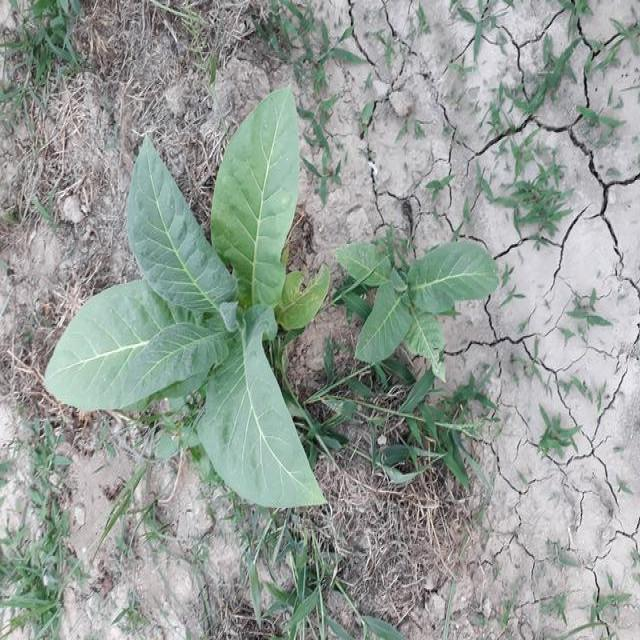crop: (43, 81, 340, 520)
